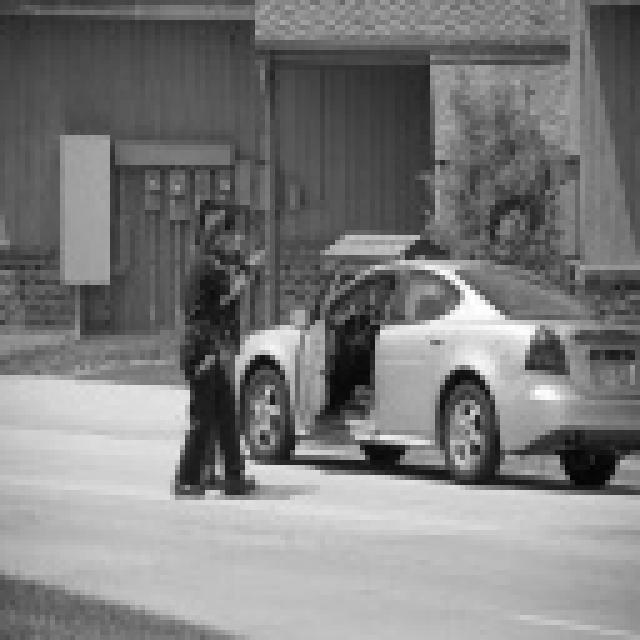Rifle: (222, 252, 292, 294)
